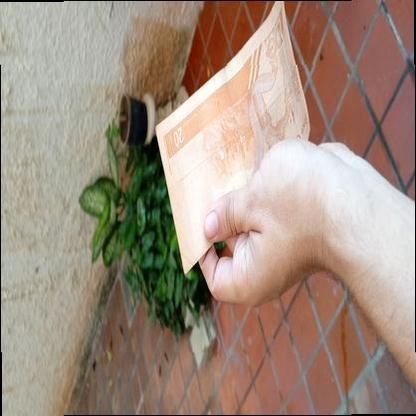twenty-back-vef: (154, 2, 311, 275)
